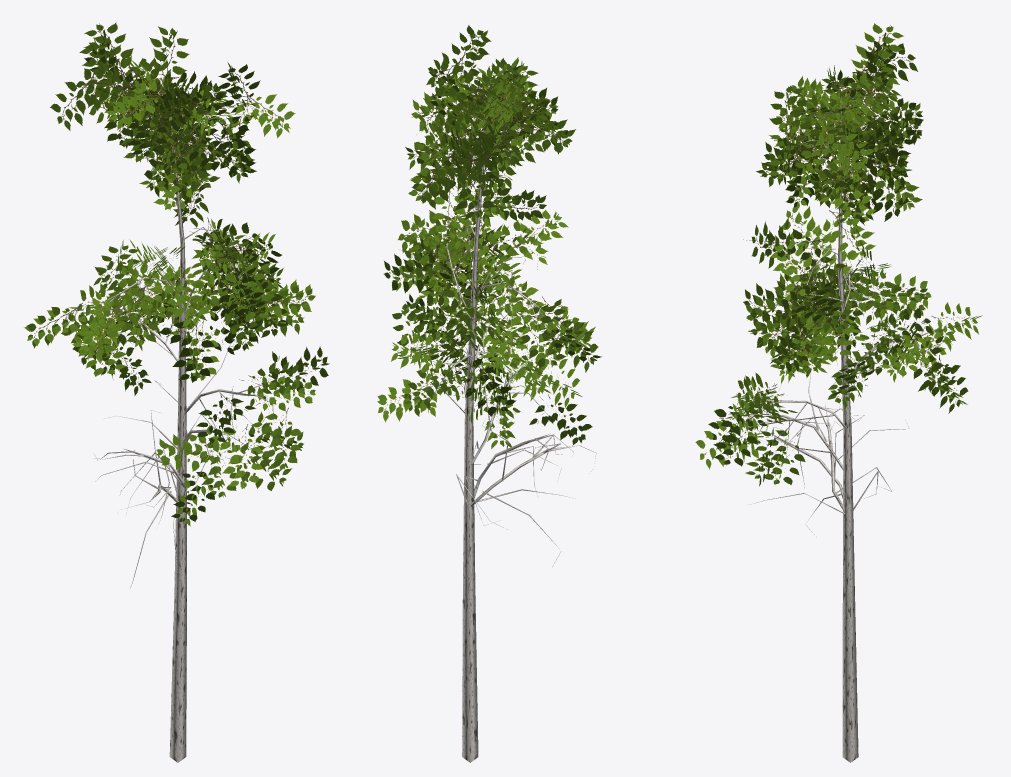
File: birch_tree_3_lod2.gltf
3 renders of one model, left to right at view 1: azimuth 30°, elevation 25°; view 2: azimuth 150°, elevation 25°; view 3: azimuth 270°, elevation 25°, orthographic. The views are drawn at different scales.
Parts seen in each view (by area): view 1: birch_tree_3_lod2; view 2: birch_tree_3_lod2; view 3: birch_tree_3_lod2.
Boxes of the visible parts, <box> form: birch_tree_3_lod2: <box>24,22,329,762</box>; birch_tree_3_lod2: <box>377,25,601,762</box>; birch_tree_3_lod2: <box>695,23,982,762</box>.
Bounding box in the file's own units: 3.26 × 8.81 × 3.49.
2 materials, 2 textured.
